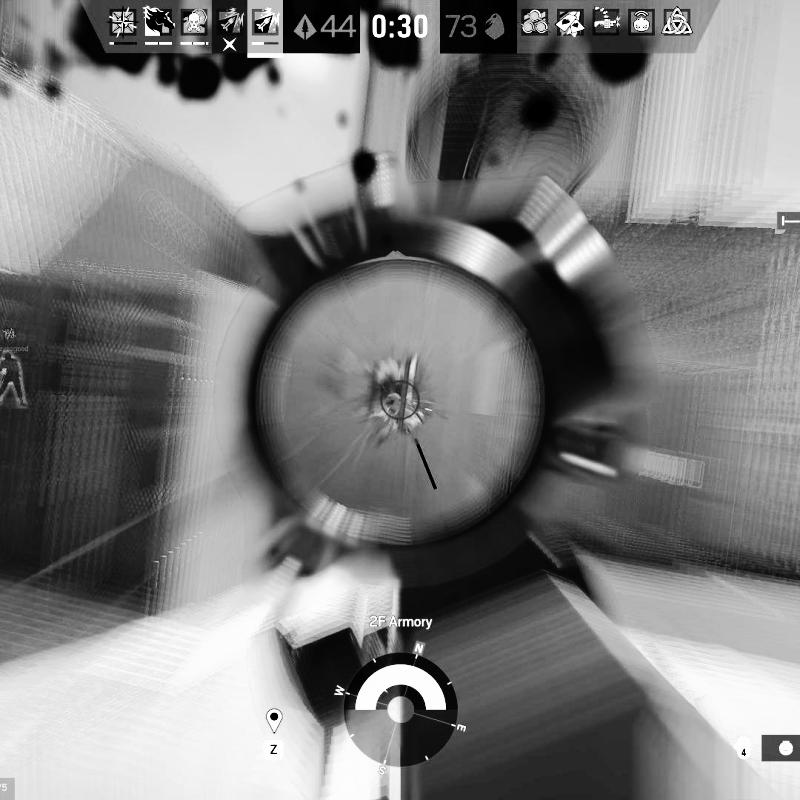Character: (378, 391, 404, 436)
Friend_label: (0, 326, 31, 352)
Head: (386, 393, 401, 416)
